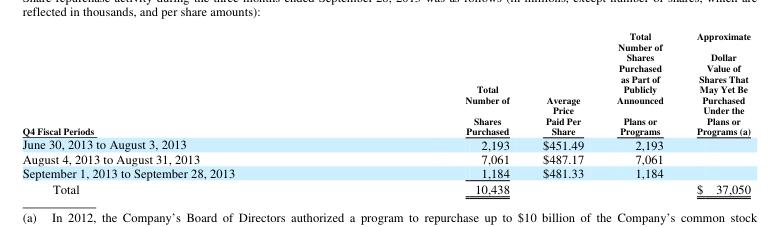table: (21, 29, 750, 196)
table column: (21, 29, 349, 196), (349, 29, 525, 196), (599, 29, 679, 196), (525, 29, 599, 196), (679, 29, 750, 196)
table column header: (21, 29, 750, 136)
table row: (21, 29, 750, 136), (21, 179, 750, 196), (21, 164, 750, 179), (21, 136, 750, 150), (21, 150, 750, 164)
